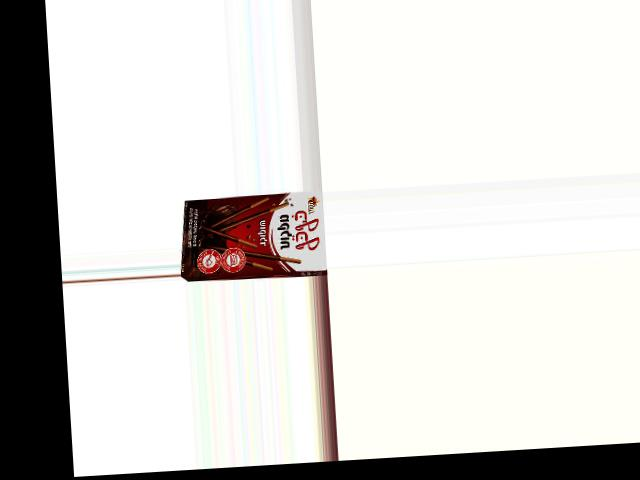chocolate: (185, 189, 327, 282)
